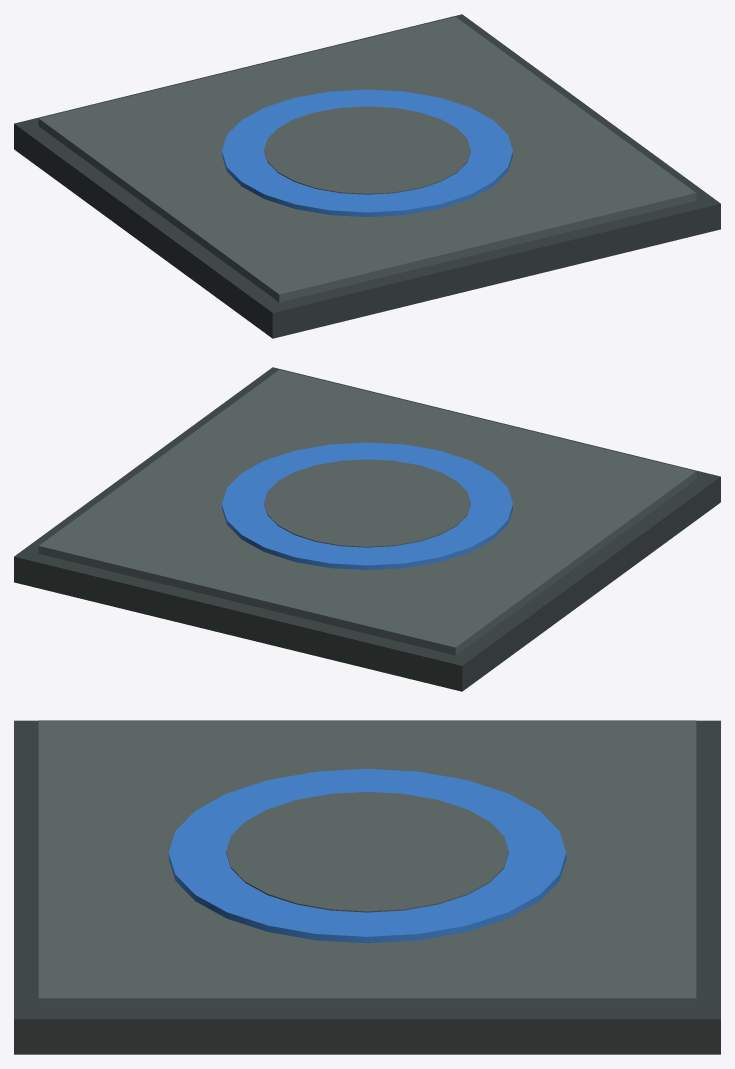
Rendered from k_mire_start.glb.
3 views of the same model, one above another, from view 1: azimuth 30°, elevation 25°; view 2: azimuth 150°, elevation 25°; view 3: azimuth 270°, elevation 25° (orthographic). The views are drawn at different scales.
Parts seen in each view (by area): view 1: piece; view 2: piece; view 3: piece.
Part boxes in pixels (left/top/right/bottom): piece: left=14, top=14, right=720, bottom=338; piece: left=14, top=367, right=720, bottom=691; piece: left=14, top=720, right=720, bottom=1054.
Bounding box in the file's own units: 1 × 0.0837 × 1.
